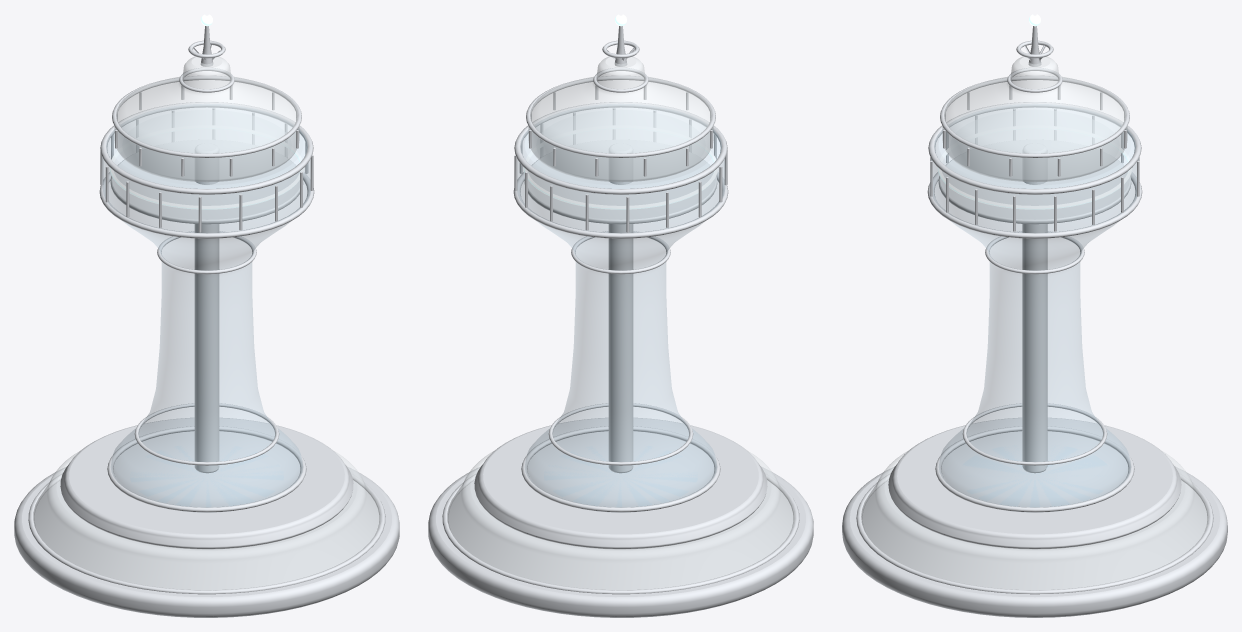
The picture shows the model from 3 angles, left to right: view 1: azimuth 30°, elevation 25°; view 2: azimuth 150°, elevation 25°; view 3: azimuth 270°, elevation 25°; orthographic projection.
Visible parts, largest first — view 1: KyotoTower_ChessPiece; view 2: KyotoTower_ChessPiece; view 3: KyotoTower_ChessPiece.
Boxes of the visible parts, x1,y1,x2,y2 form: KyotoTower_ChessPiece: [14, 14, 399, 617]; KyotoTower_ChessPiece: [428, 14, 813, 617]; KyotoTower_ChessPiece: [842, 14, 1227, 617].
Size of the model in its own units: 2 by 3 by 2.
